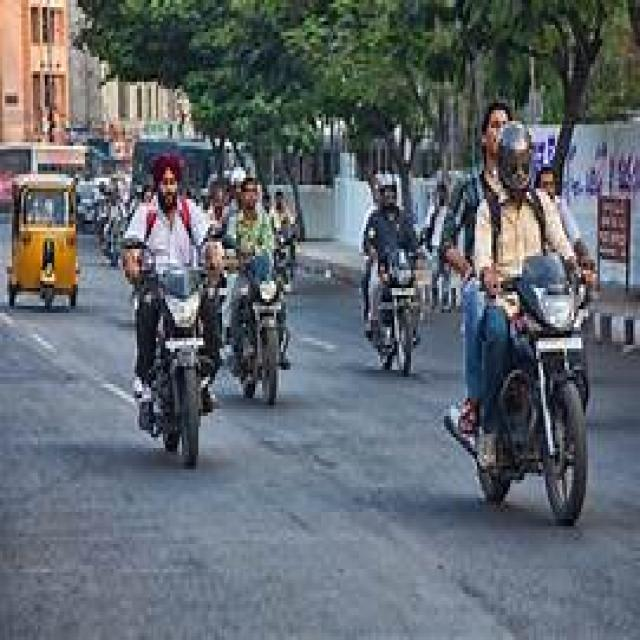Auto: (10, 179, 75, 307)
Two Wheeler: (444, 190, 587, 524), (120, 216, 224, 466), (230, 241, 294, 404), (369, 247, 423, 374)
